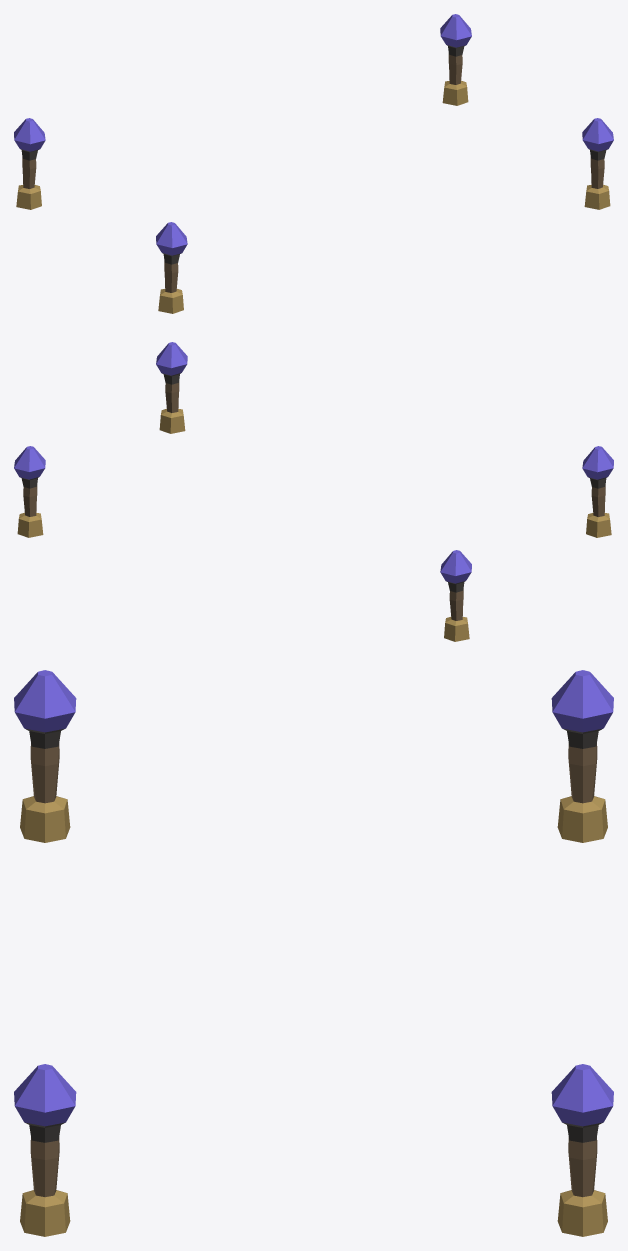
Rendered from magicTrapGeo.fbx.
3 renders of one model, top to bottom at view 1: azimuth 30°, elevation 25°; view 2: azimuth 150°, elevation 25°; view 3: azimuth 270°, elevation 25°, orthographic. The views are drawn at different scales.
Parts seen in each view (by area): view 1: magicTrapGeo2, magicTrapGeo, magicTrapGeo3, magicTrapGeo4; view 2: magicTrapGeo, magicTrapGeo2, magicTrapGeo4, magicTrapGeo3; view 3: magicTrapGeo, magicTrapGeo2, magicTrapGeo3, magicTrapGeo4.
Boxes of the visible parts, x1,y1,x2,y2 form: magicTrapGeo2: (582,118,613,209); magicTrapGeo: (440,14,471,105); magicTrapGeo3: (156,222,187,313); magicTrapGeo4: (14,118,45,209); magicTrapGeo: (14,446,45,537); magicTrapGeo2: (156,342,187,433); magicTrapGeo4: (440,550,471,641); magicTrapGeo3: (582,446,613,537); magicTrapGeo: (551,1064,613,1236); magicTrapGeo2: (14,1064,76,1236); magicTrapGeo3: (14,670,76,842); magicTrapGeo4: (551,670,613,842).
Size of the model in its own units: 6.41 by 1.13 by 3.85.
